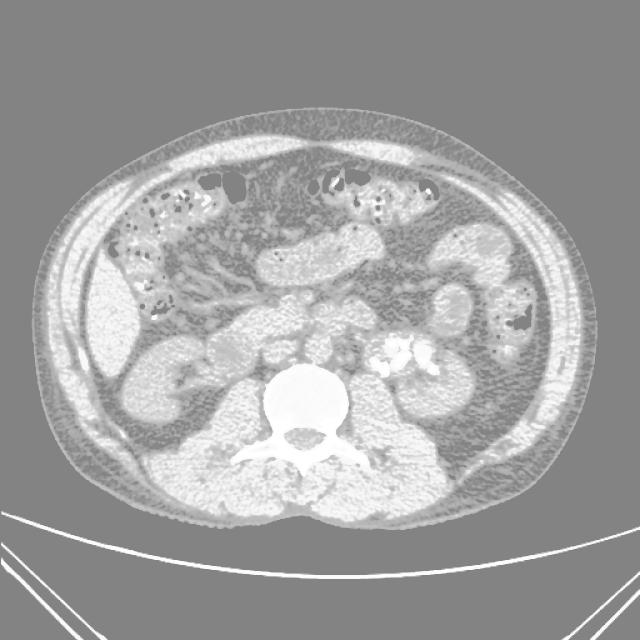STONE: (102, 157, 560, 452)
